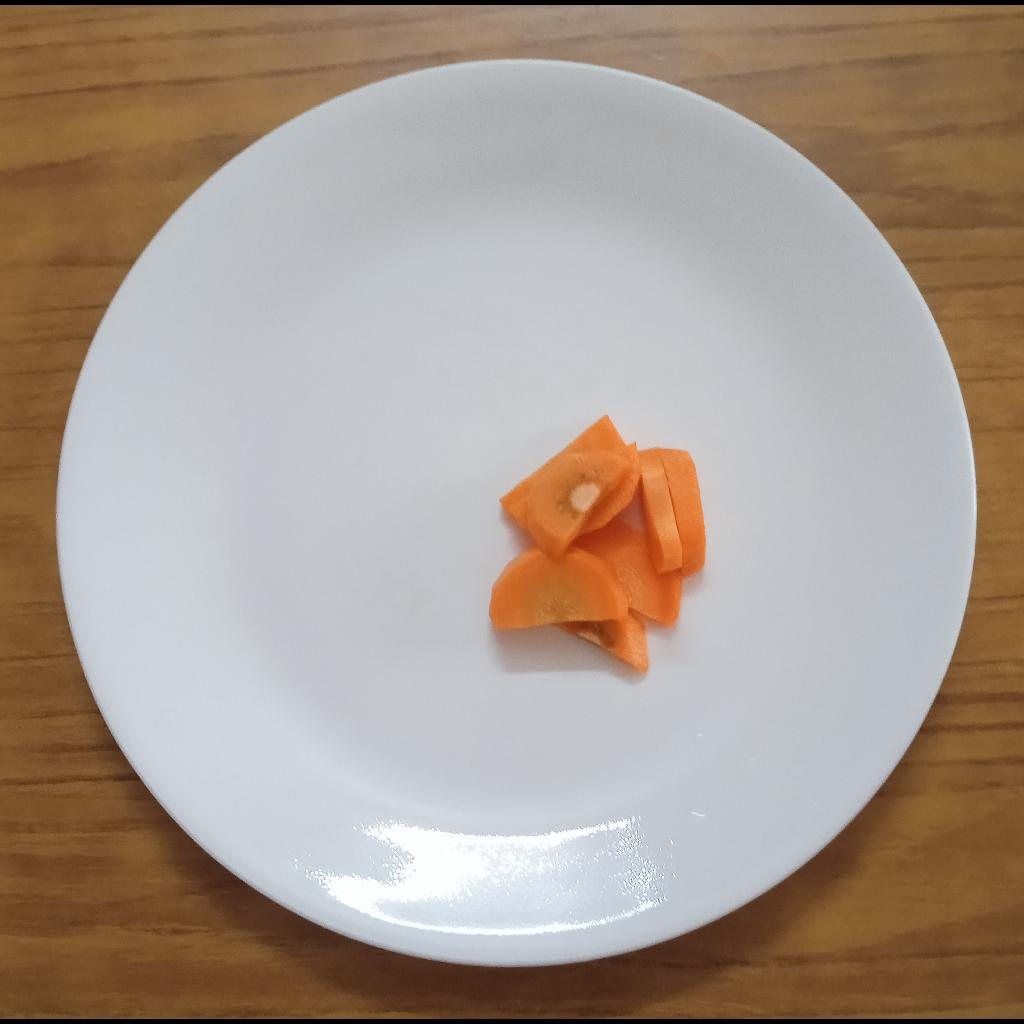carrot: (487, 412, 708, 681)
